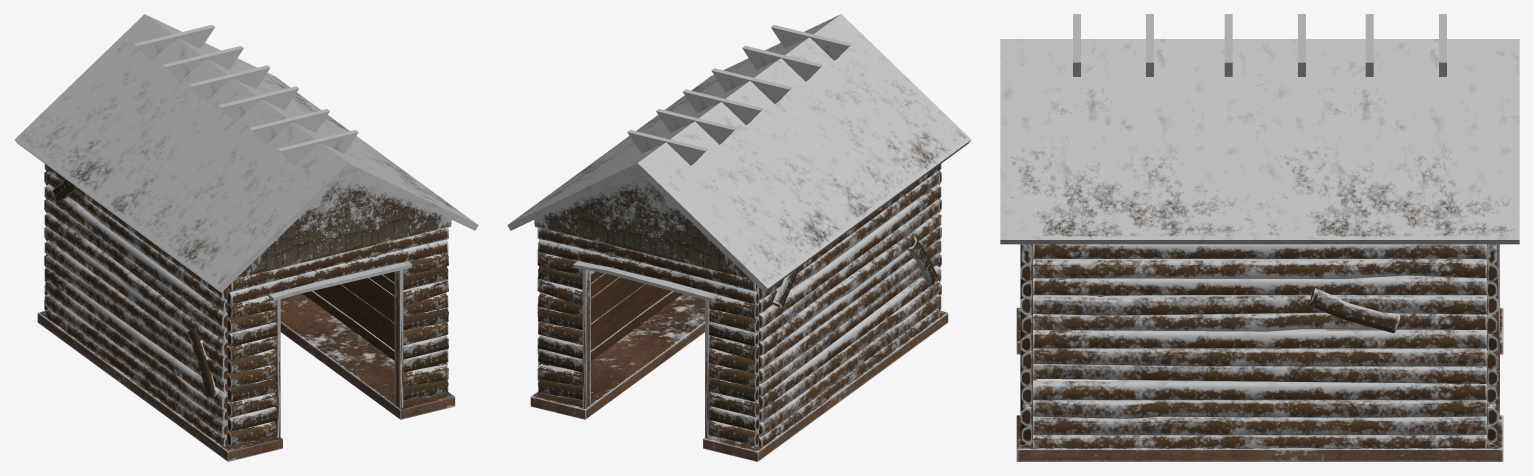
The model's file is lodge_hut.fbx.
3 views of the same model, side by side, from view 1: azimuth 30°, elevation 25°; view 2: azimuth 150°, elevation 25°; view 3: azimuth 270°, elevation 25° (orthographic). The views are drawn at different scales.
Visible parts, largest first — view 1: lodge_hut; view 2: lodge_hut; view 3: lodge_hut.
Part boxes in pixels (x1,y1,x2,y2): lodge_hut: [14, 14, 478, 461]; lodge_hut: [507, 14, 971, 461]; lodge_hut: [1000, 14, 1519, 461].
Size of the model in its own units: 527 by 535 by 714.
